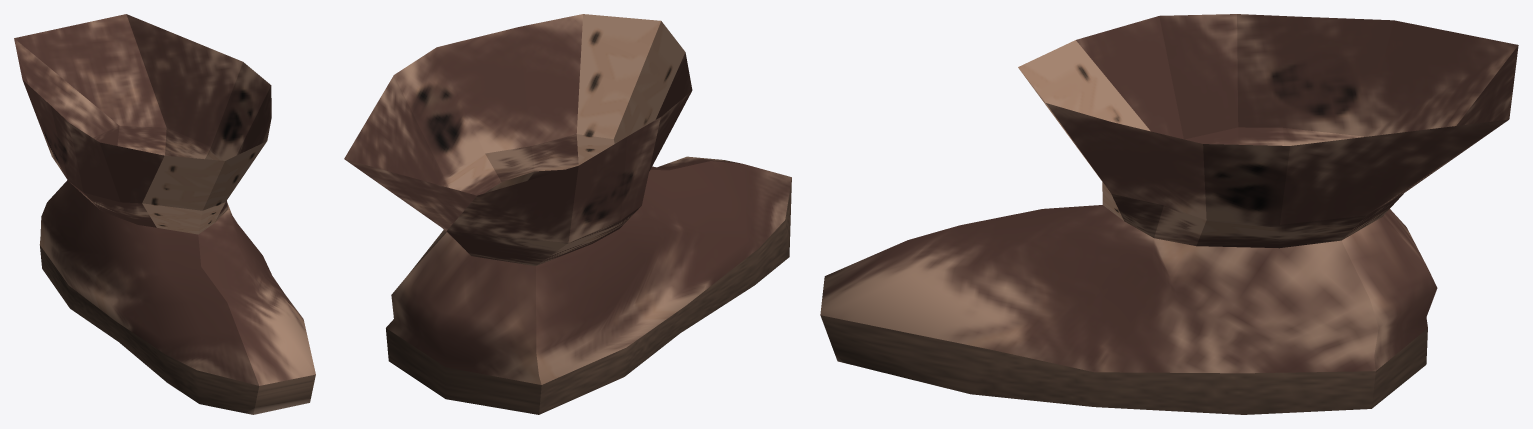
File: long boot.FBX
The picture shows the model from 3 angles, left to right: view 1: azimuth 30°, elevation 25°; view 2: azimuth 150°, elevation 25°; view 3: azimuth 270°, elevation 25°; orthographic projection. The views are drawn at different scales.
Visible parts, largest first — view 1: shoe2; view 2: shoe2; view 3: shoe2.
Boxes of the visible parts, x1=… form: shoe2: x1=14, y1=14, x2=315, y2=414; shoe2: x1=344, y1=14, x2=791, y2=414; shoe2: x1=820, y1=14, x2=1518, y2=414.
Size of the model in its own units: 1619 by 1602 by 3620.
